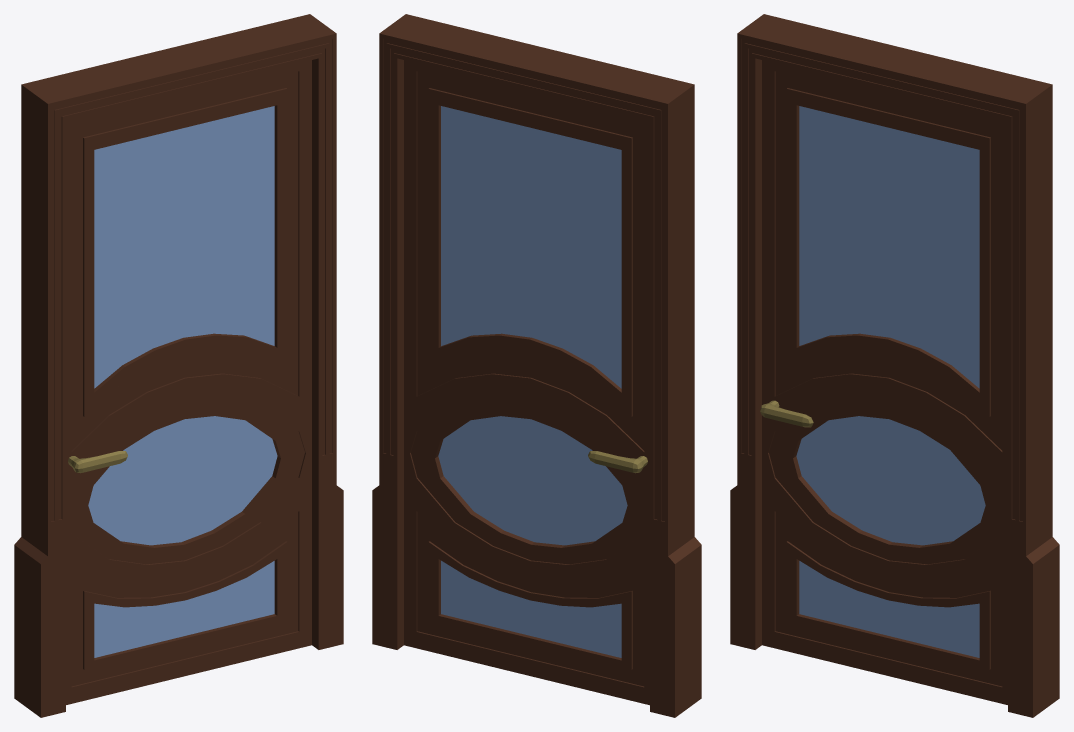
The model's file is Door1.glb.
3 views of the same model, side by side, from view 1: azimuth 30°, elevation 25°; view 2: azimuth 150°, elevation 25°; view 3: azimuth 330°, elevation 25° (orthographic).
Visible parts, largest first — view 1: Door1; view 2: Door1; view 3: Door1.
Part boxes in pixels (x1,y1,x2,y2): Door1: (14,14,343,717); Door1: (372,14,701,717); Door1: (730,14,1059,717).
Size of the model in its own units: 1.59 by 3.08 by 0.3199.
